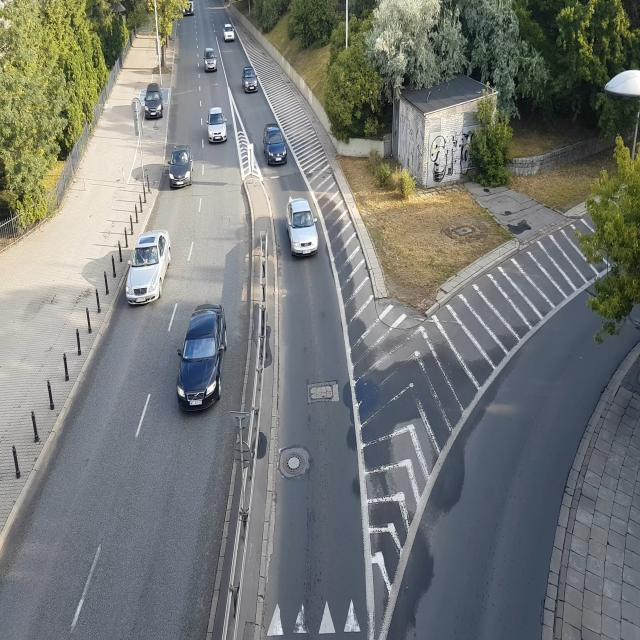car: (176, 306, 226, 414), (125, 230, 175, 307), (285, 196, 320, 257), (262, 122, 289, 167), (168, 146, 194, 188), (208, 109, 230, 145), (144, 85, 164, 118), (241, 65, 258, 91), (205, 46, 219, 72), (224, 24, 238, 43)
